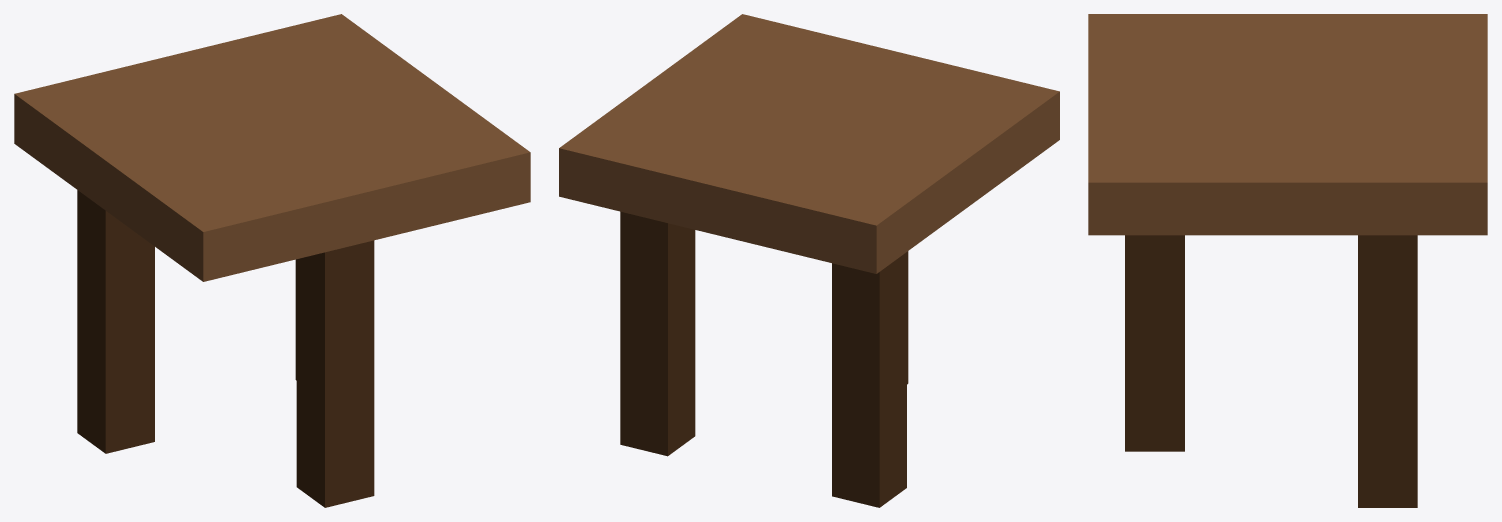
Rendered from stool.glb.
3 views of the same model, side by side, from view 1: azimuth 30°, elevation 25°; view 2: azimuth 150°, elevation 25°; view 3: azimuth 270°, elevation 25° (orthographic). The views are drawn at different scales.
Visible parts, largest first — view 1: stool; view 2: stool; view 3: stool.
Part boxes in pixels (x1,y1,x2,y2): stool: [14, 14, 530, 507]; stool: [559, 14, 1059, 507]; stool: [1088, 14, 1487, 507].
Size of the model in its own units: 0.24 by 0.226 by 0.24.
